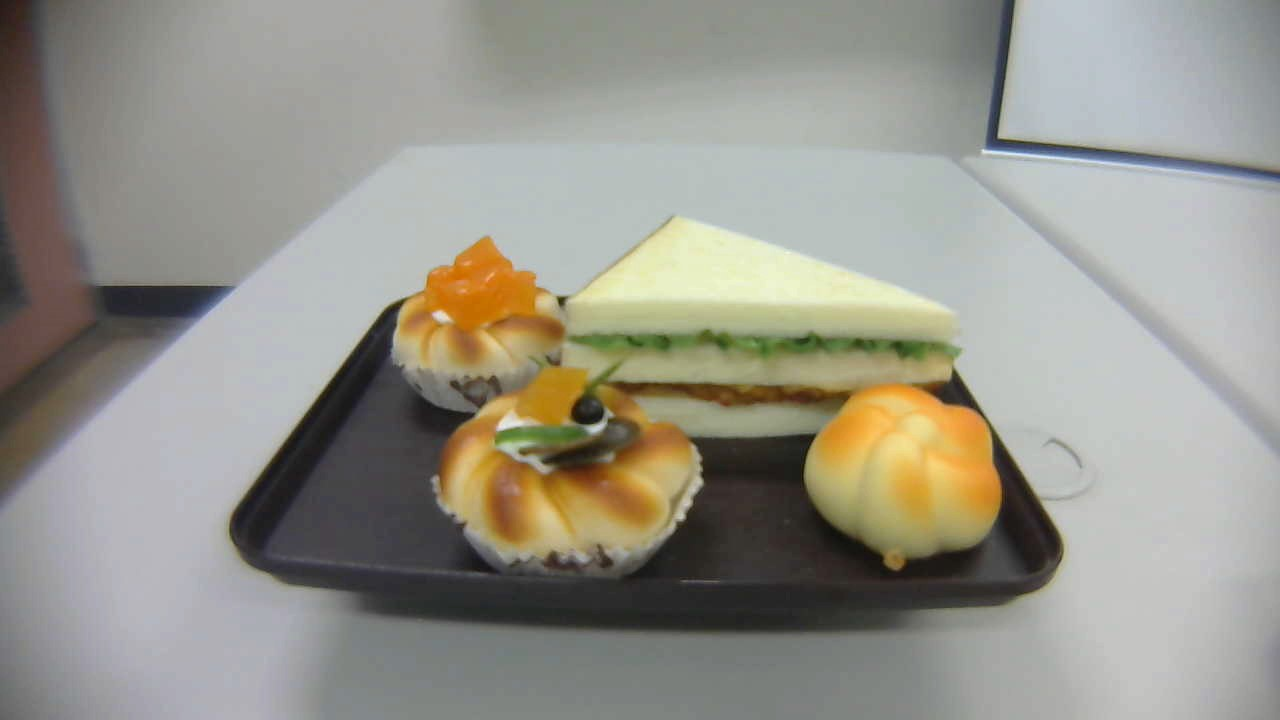fruit tart: (434, 362, 705, 582)
mango tart: (390, 235, 567, 414)
sandwich: (567, 213, 958, 439)
twist bread: (801, 382, 1004, 573)
